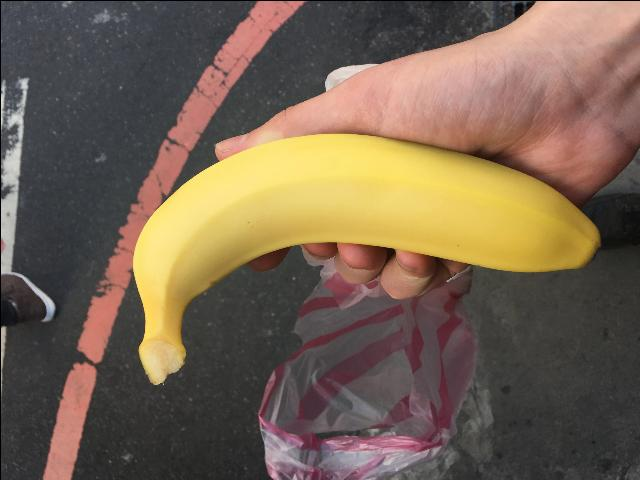Bananas: (132, 130, 598, 384)
